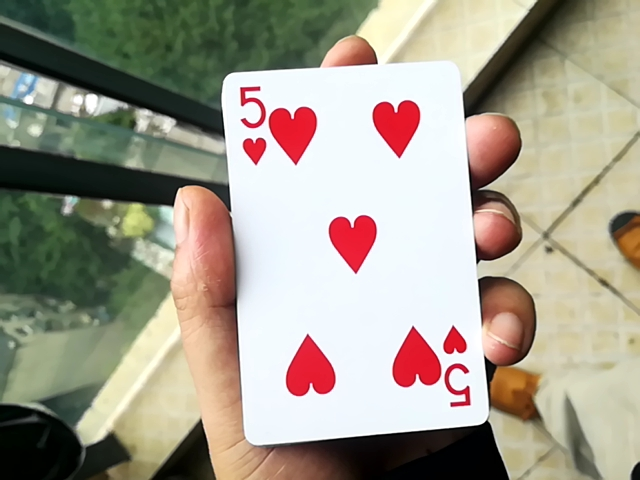hx 5: (218, 45, 487, 445)
